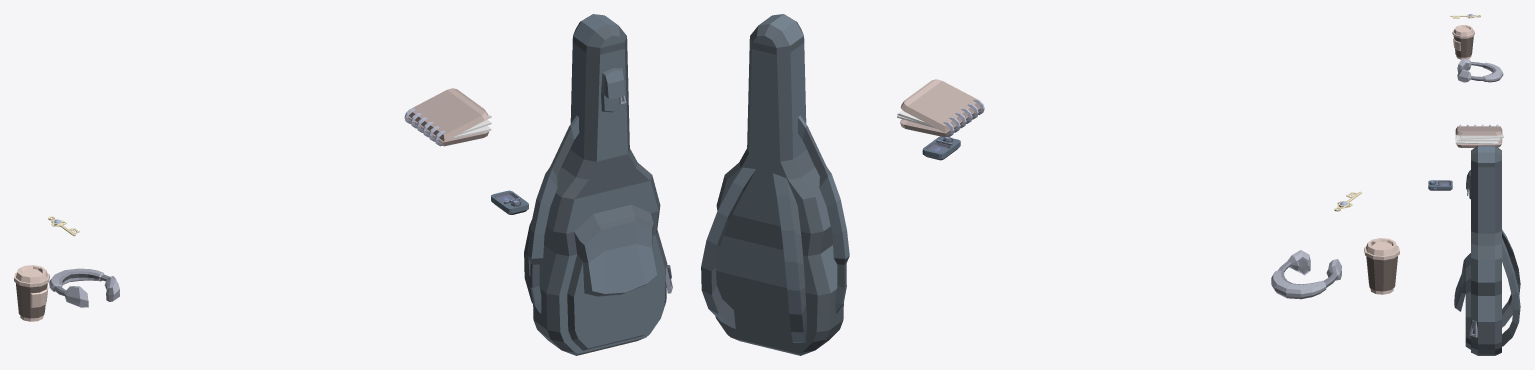
Rendered from Items.fbx.
The picture shows the model from 3 angles, left to right: view 1: azimuth 30°, elevation 25°; view 2: azimuth 150°, elevation 25°; view 3: azimuth 270°, elevation 25°; orthographic projection. The views are drawn at different scales.
Parts seen in each view (by area): view 1: BassCarryBag, Diary, Coffe, HeahphonesGuy, MP3; view 2: BassCarryBag, Diary, HeahphonesGuy, Coffe, MP3; view 3: BassCarryBag, Diary, HeahphonesGuy, Coffe, MP3, Key.
Boxes of the visible parts, bbox=[...] form: BassCarryBag: bbox=[524, 14, 672, 355]; Diary: bbox=[404, 88, 491, 146]; Coffe: bbox=[14, 265, 49, 321]; HeahphonesGuy: bbox=[49, 268, 119, 307]; MP3: bbox=[491, 190, 528, 214]; BassCarryBag: bbox=[701, 14, 849, 355]; Diary: bbox=[897, 79, 984, 137]; HeahphonesGuy: bbox=[1271, 250, 1341, 299]; Coffe: bbox=[1364, 238, 1399, 294]; MP3: bbox=[922, 136, 960, 160]; BassCarryBag: bbox=[1454, 145, 1520, 355]; Diary: bbox=[1455, 124, 1503, 147]; HeahphonesGuy: bbox=[1457, 59, 1503, 82]; Coffe: bbox=[1452, 25, 1474, 59]; MP3: bbox=[1428, 180, 1452, 190]; Key: bbox=[1450, 14, 1480, 18].
Size of the model in its own units: 499 by 232 by 96.92.
